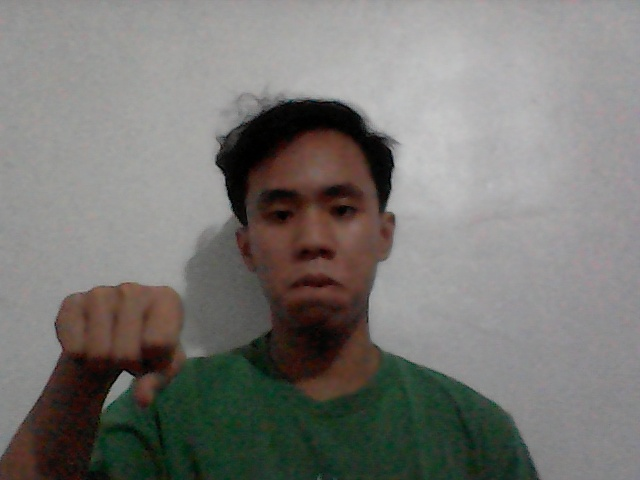Yes: (35, 255, 219, 427)
